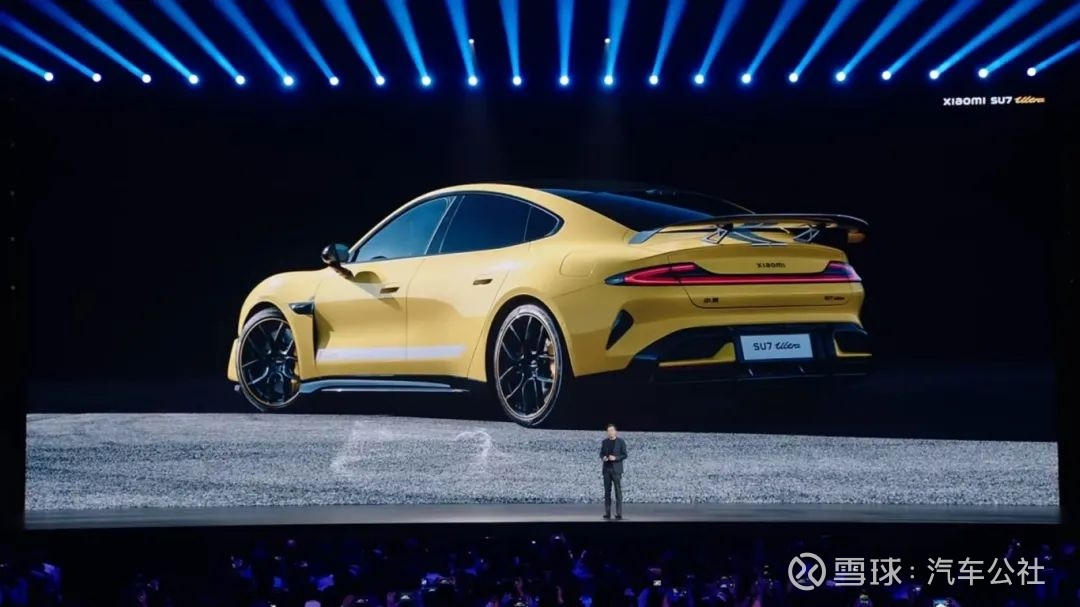su7: (212, 175, 885, 434)
